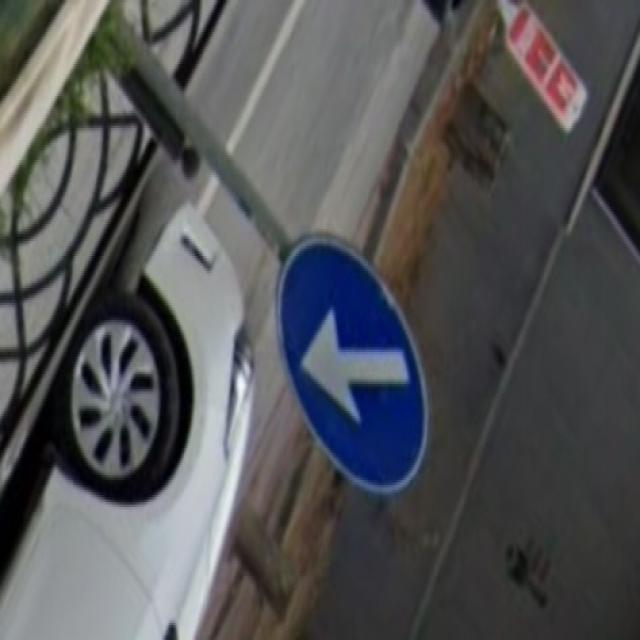Turn Left: (277, 241, 434, 497)
